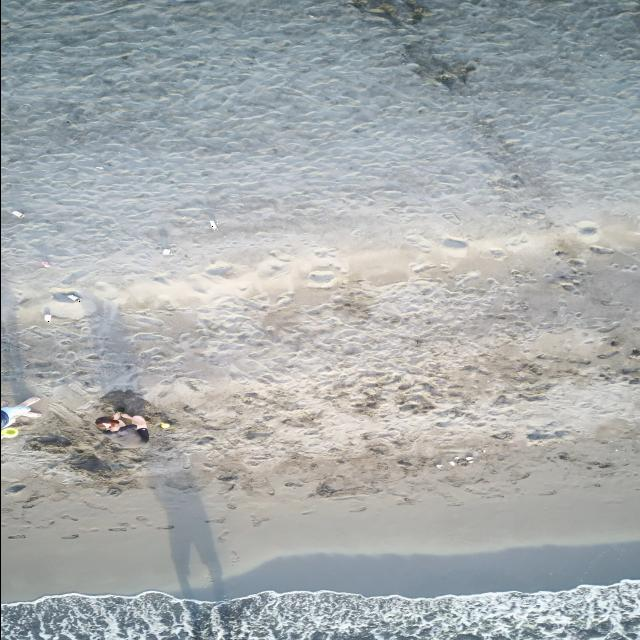Garbage: (0, 427, 18, 437), (181, 452, 190, 467), (67, 293, 80, 300), (11, 209, 23, 216), (209, 219, 216, 230), (44, 312, 51, 322), (163, 247, 171, 255), (40, 260, 49, 267), (160, 422, 169, 427), (448, 460, 455, 466), (464, 455, 472, 460), (453, 456, 459, 462), (435, 464, 442, 467)
